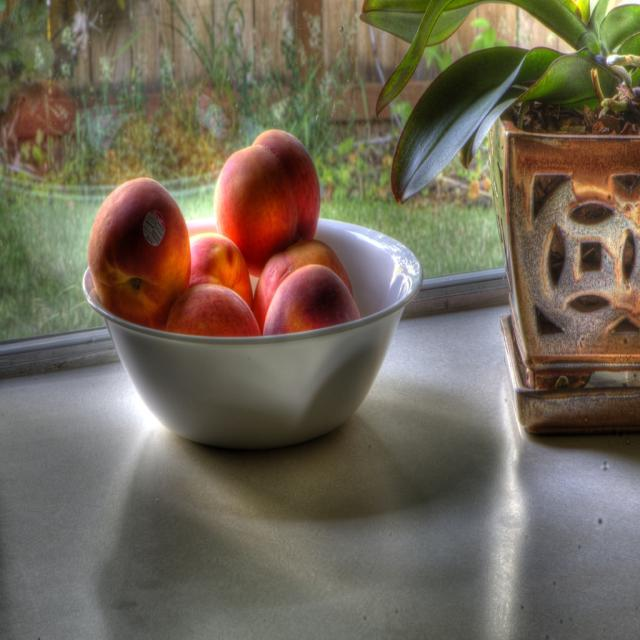Peach: (87, 129, 363, 339), (212, 124, 329, 268)
